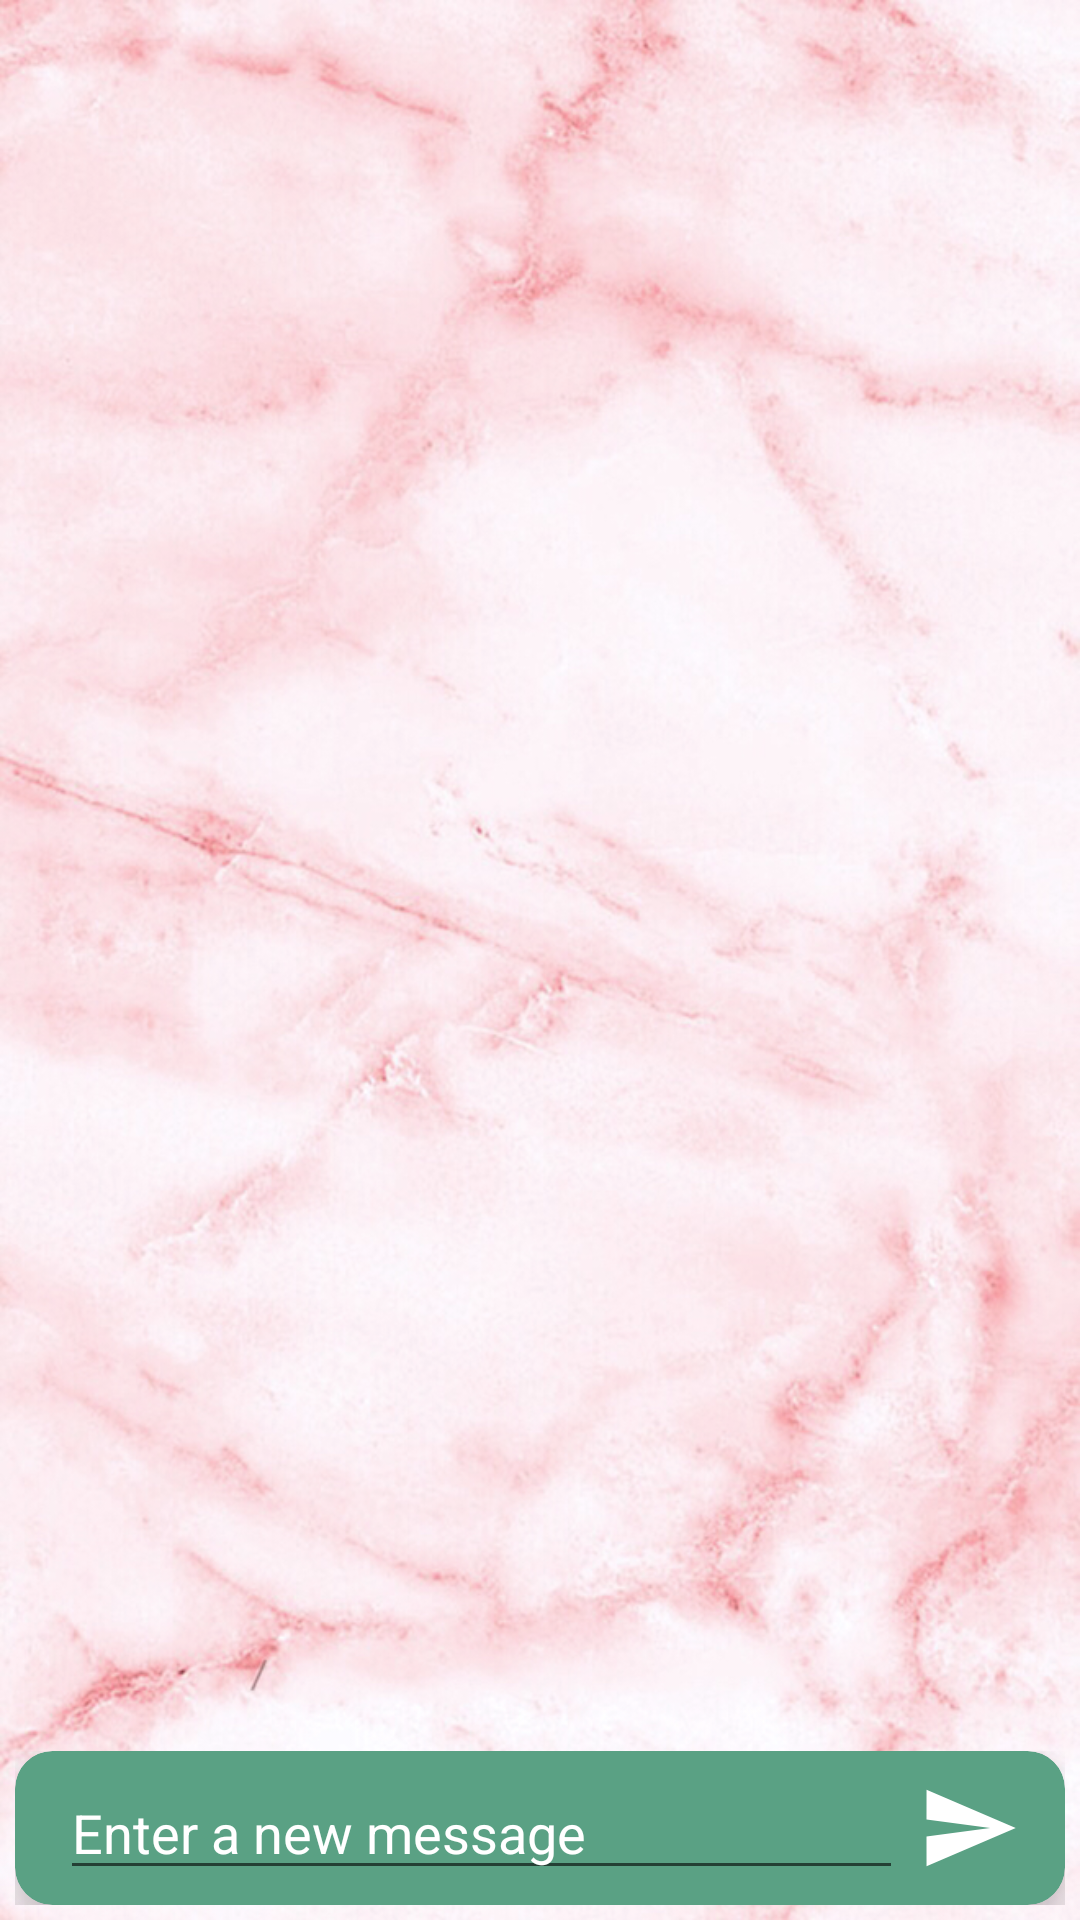

Locate icon controls on the screen. Image size 1080px x 1920px, boxes as (x1, y1, x2, y2).
send: (926, 1790, 1015, 1866)
